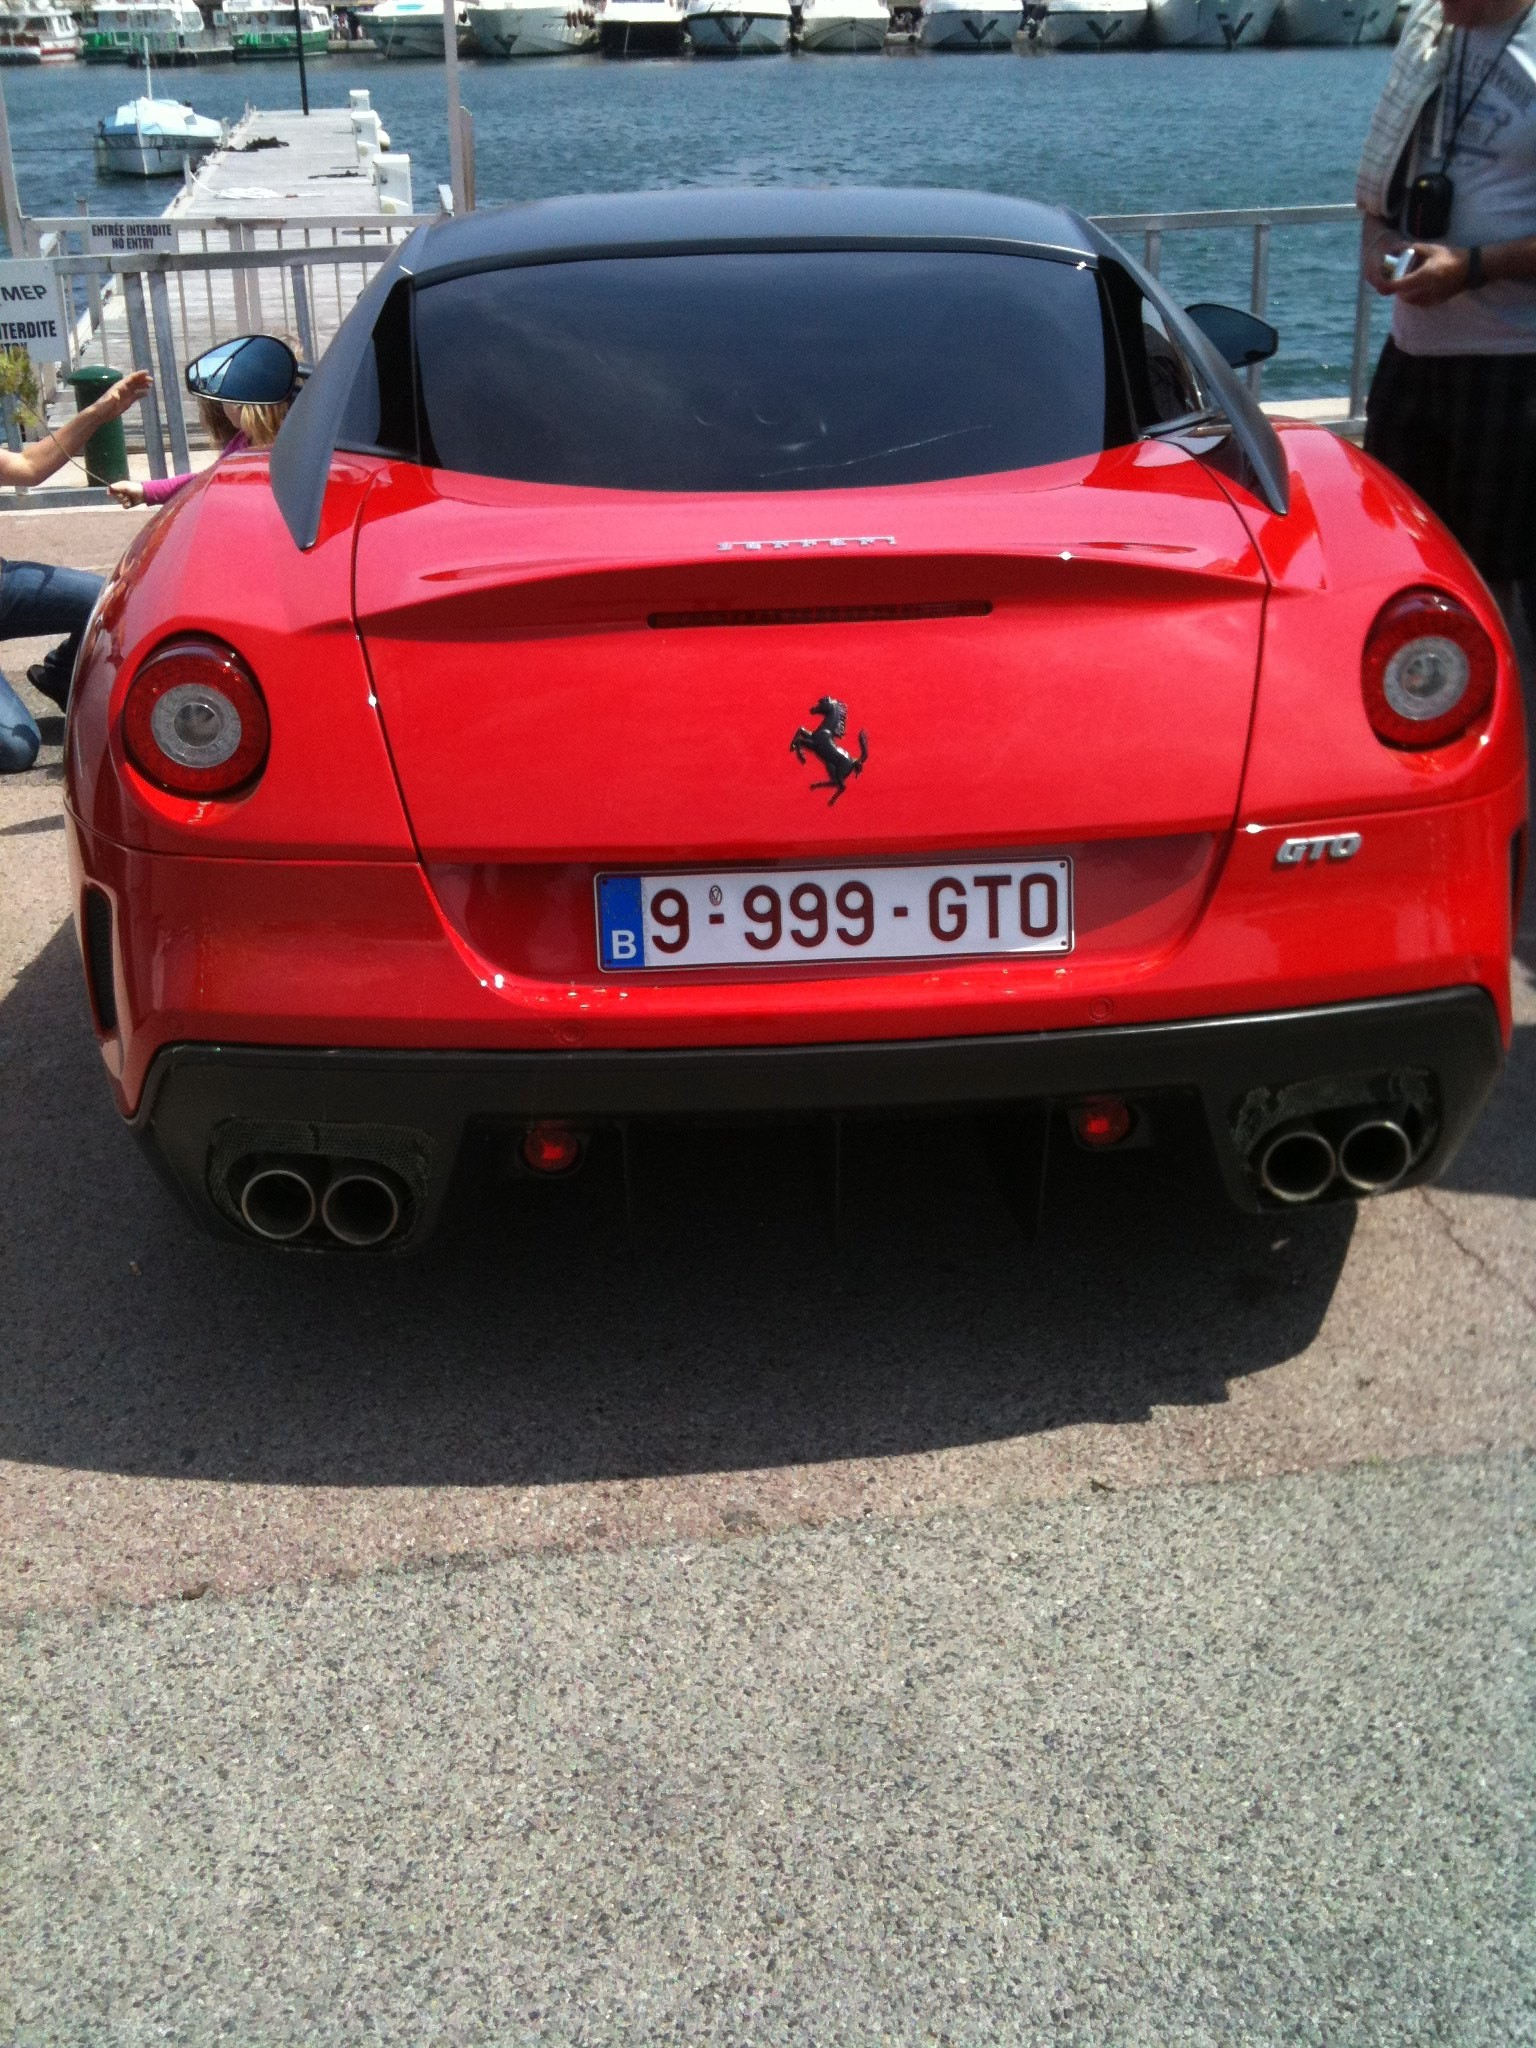licenceplate: (594, 868, 1073, 963)
